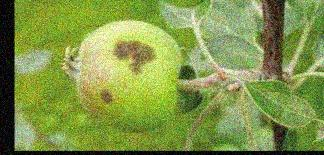rotten apple: (74, 18, 188, 130)
